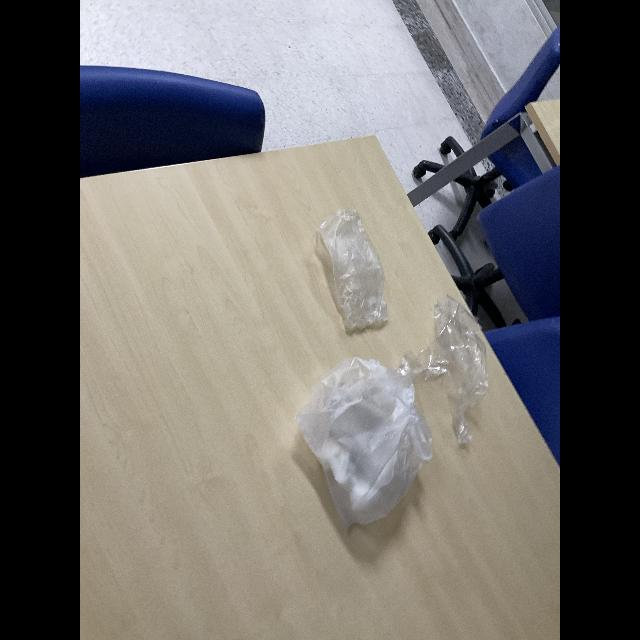plastic_bag: (294, 354, 434, 530), (410, 283, 494, 451), (308, 204, 388, 336)
